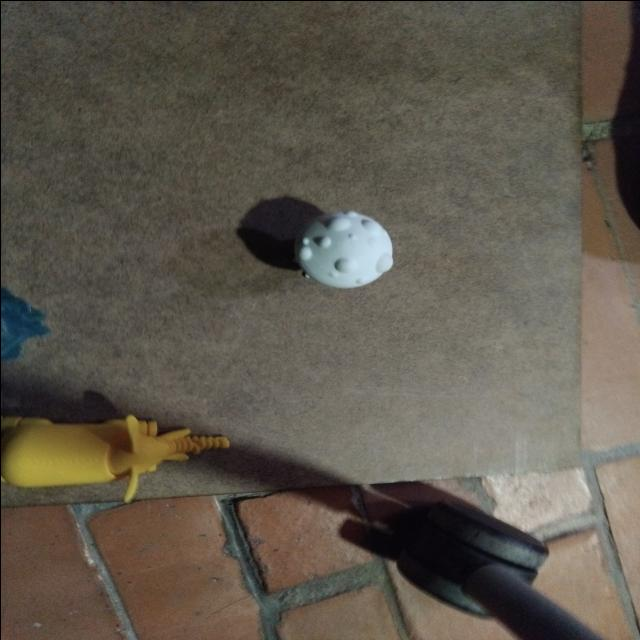Hongo: (278, 202, 408, 292)
